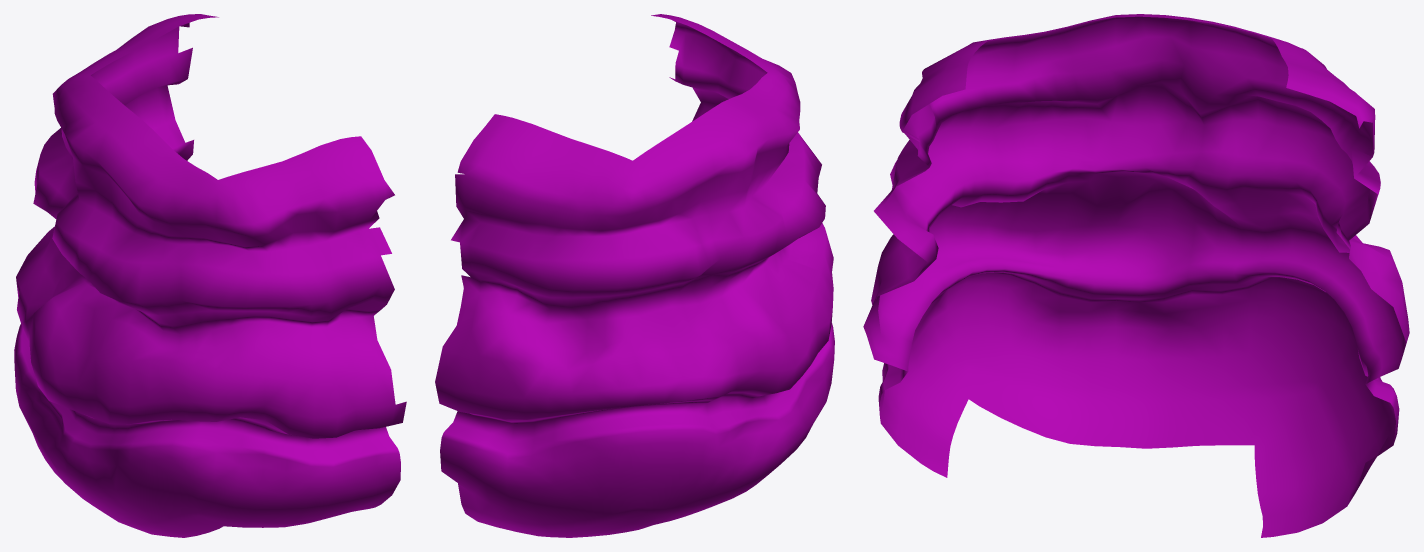
The model's file is Cave_Wall_HalfPillar.fbx.
3 views of the same model, side by side, from view 1: azimuth 30°, elevation 25°; view 2: azimuth 150°, elevation 25°; view 3: azimuth 270°, elevation 25° (orthographic). The views are drawn at different scales.
Parts seen in each view (by area): view 1: Cave_Wall_HalfPillar; view 2: Cave_Wall_HalfPillar; view 3: Cave_Wall_HalfPillar.
Part boxes in pixels (left/top/right/bottom): Cave_Wall_HalfPillar: left=14, top=14, right=406, bottom=537; Cave_Wall_HalfPillar: left=435, top=14, right=834, bottom=537; Cave_Wall_HalfPillar: left=863, top=14, right=1409, bottom=537.
Bounding box in the file's own units: 65.33 × 106 × 116.
